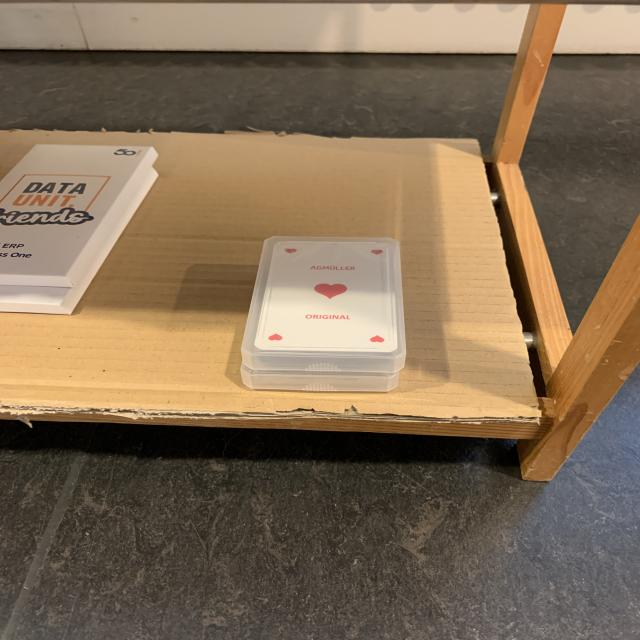Jasskarte: (241, 236, 406, 375), (241, 365, 399, 392)
